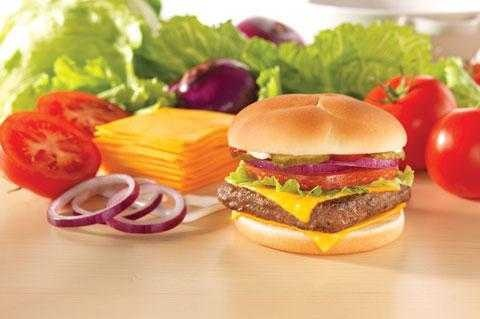hamburger: (223, 92, 431, 253)
